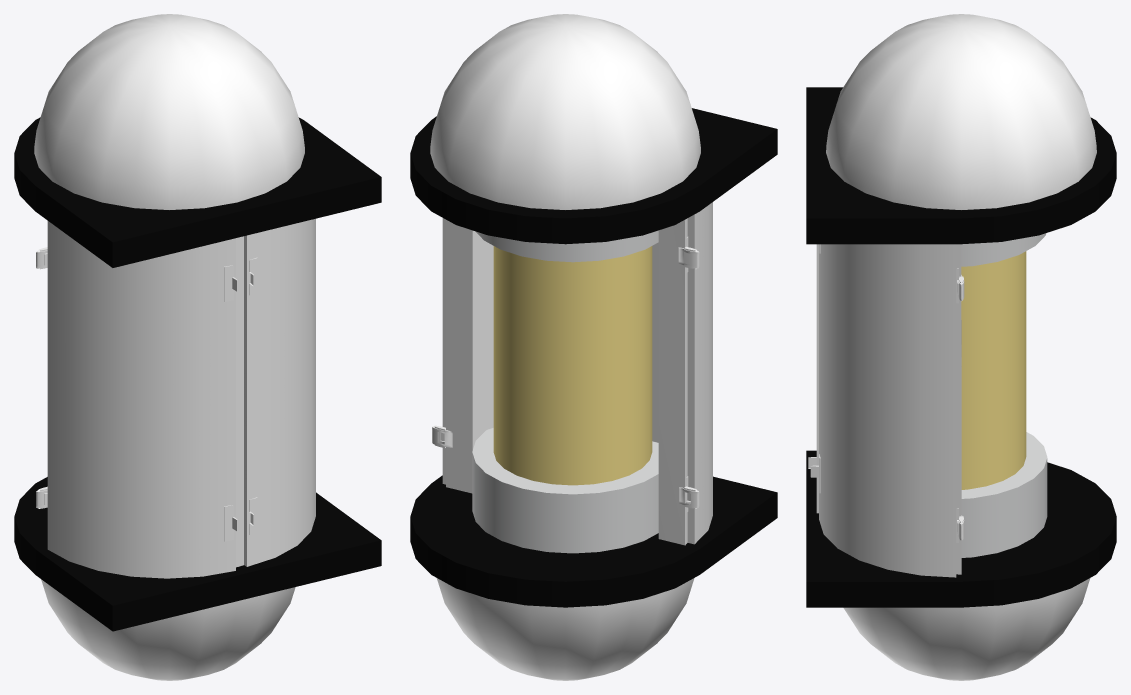
The picture shows the model from 3 angles, left to right: view 1: azimuth 30°, elevation 25°; view 2: azimuth 150°, elevation 25°; view 3: azimuth 270°, elevation 25°; orthographic projection.
Visible parts, largest first — view 1: Mystery Goo Containment Unit (worling)_mesh; view 2: Mystery Goo Containment Unit (worling)_mesh; view 3: Mystery Goo Containment Unit (worling)_mesh.
Boxes of the visible parts, left/top/right/bottom form: Mystery Goo Containment Unit (worling)_mesh: left=14, top=14, right=381, bottom=680; Mystery Goo Containment Unit (worling)_mesh: left=410, top=14, right=777, bottom=680; Mystery Goo Containment Unit (worling)_mesh: left=806, top=14, right=1116, bottom=680.
Size of the model in its own units: 30.45 by 69.69 by 30.45.
